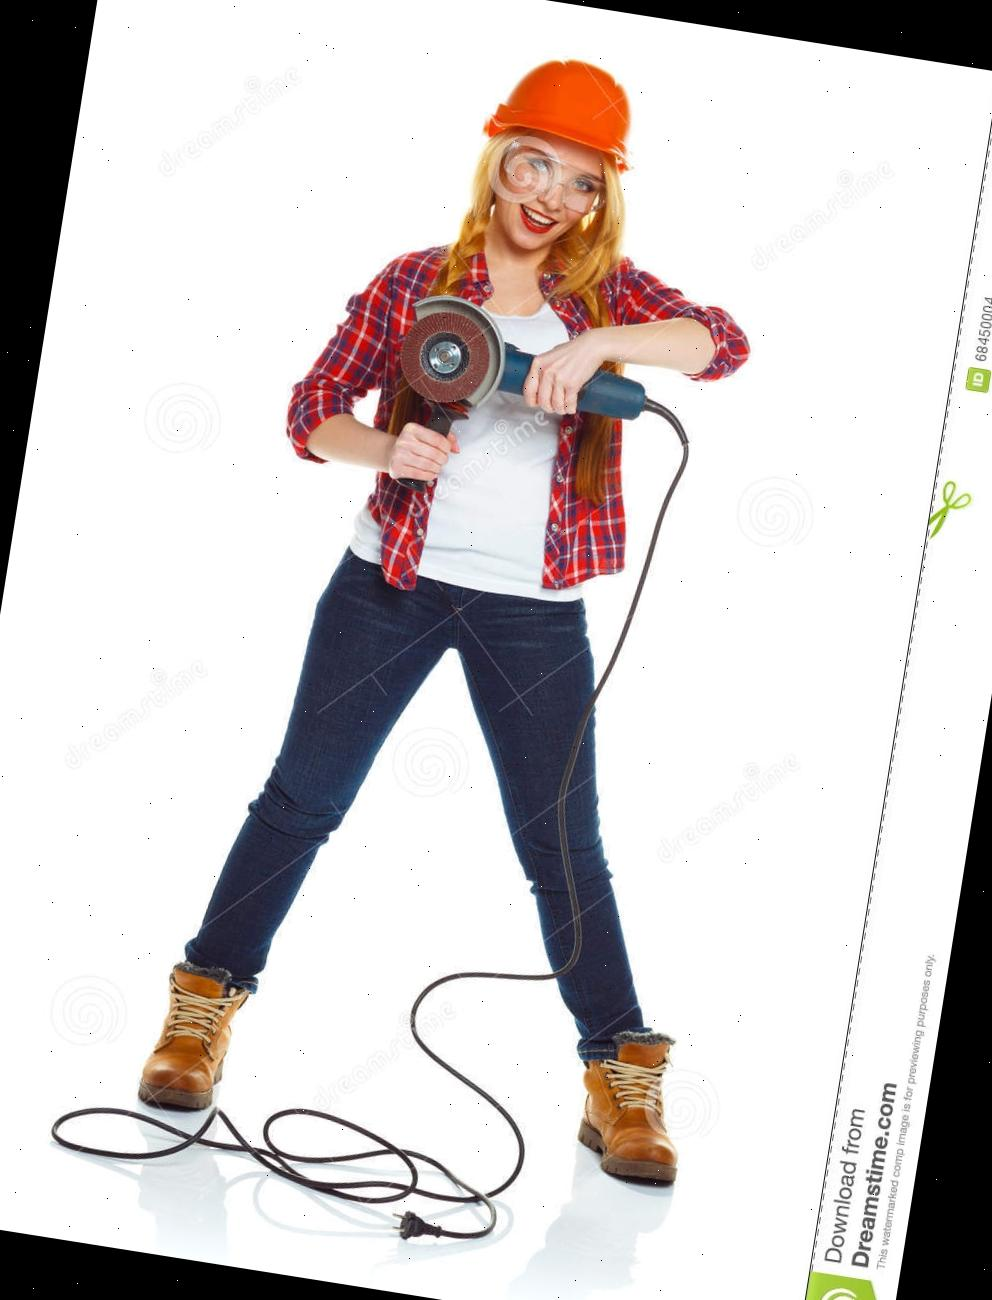helmet: (483, 46, 643, 176)
no_wear: (353, 232, 649, 603)
